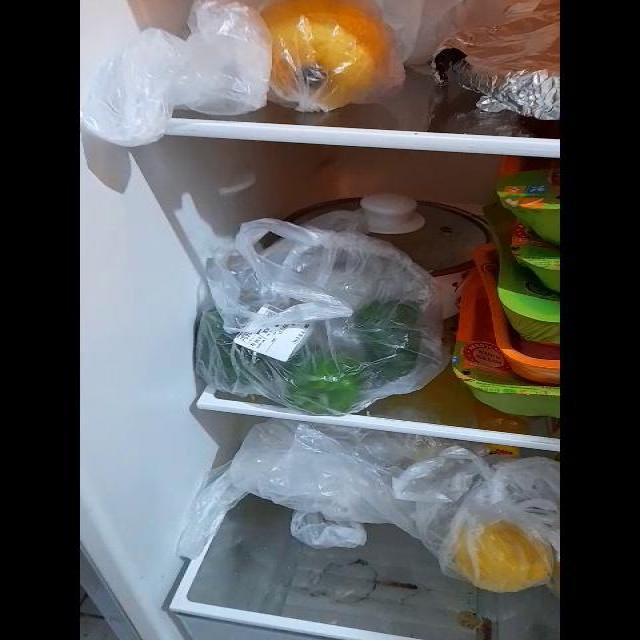lemon: (256, 5, 393, 103), (452, 517, 558, 592)
